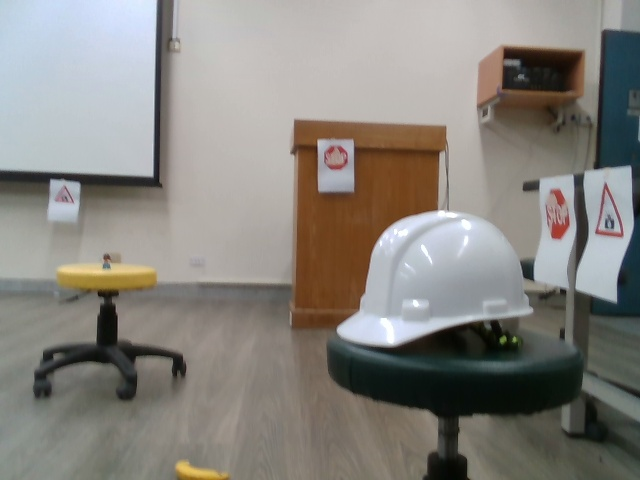camera: (592, 182, 626, 242)
helmet: (334, 207, 537, 356)
stop: (543, 184, 571, 244)
